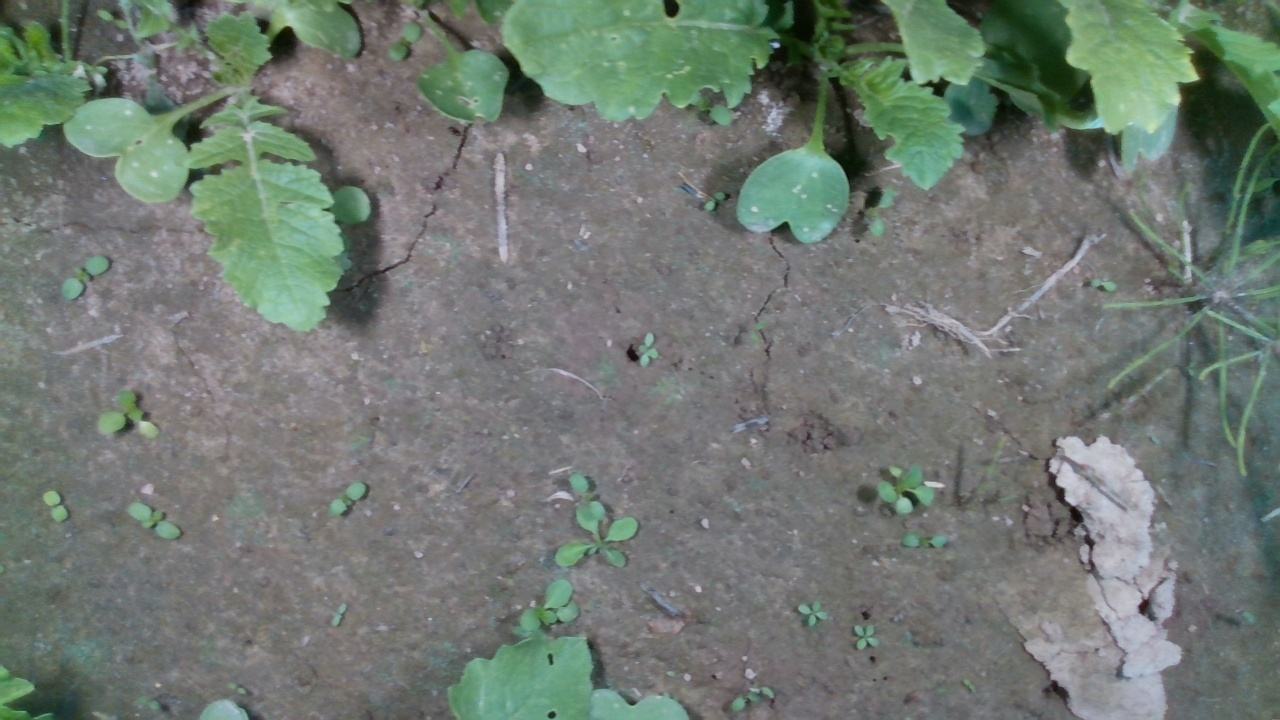weed: (59, 254, 110, 302), (126, 501, 182, 540), (327, 481, 367, 515), (40, 489, 69, 523), (795, 598, 829, 626), (636, 330, 659, 369), (851, 623, 880, 652), (899, 532, 949, 548), (328, 600, 348, 630), (701, 190, 726, 213), (1089, 277, 1118, 292), (225, 682, 248, 695)
